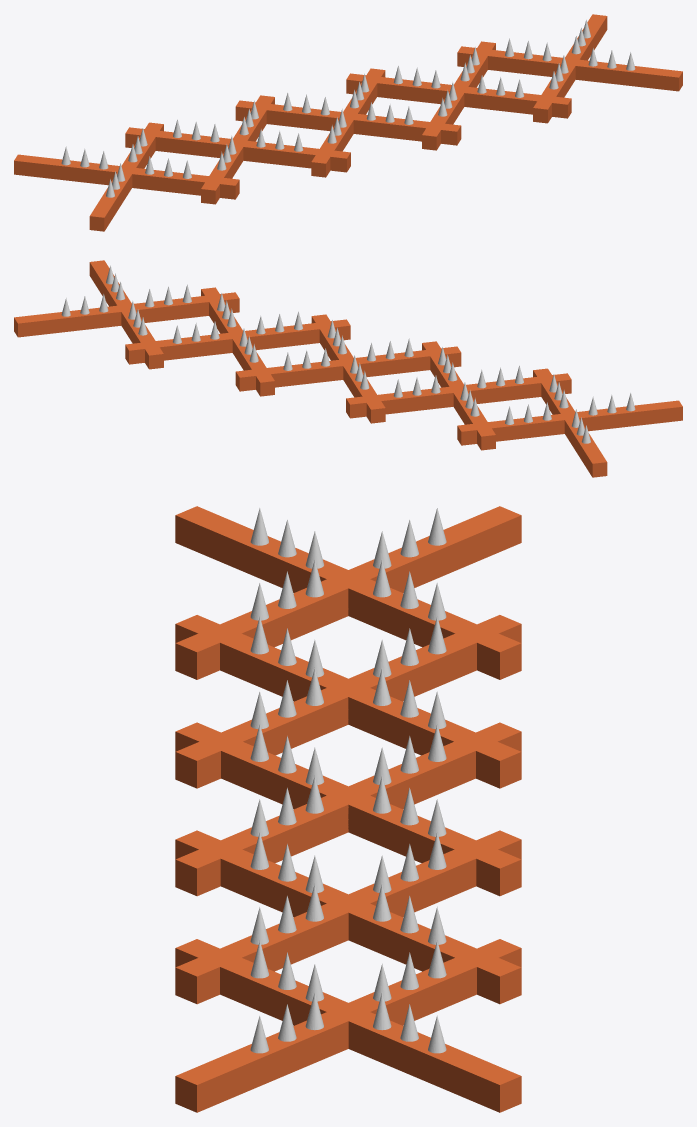
Rendered from Barbed.fbx.
3 renders of one model, top to bottom at view 1: azimuth 30°, elevation 25°; view 2: azimuth 150°, elevation 25°; view 3: azimuth 270°, elevation 25°, orthographic. The views are drawn at different scales.
Parts seen in each view (by area): view 1: 立方体, 锥体; view 2: 立方体, 锥体; view 3: 立方体, 锥体.
Part boxes in pixels (<box>): 立方体: <box>14,14,682,231</box>; 锥体: <box>61,19,635,197</box>; 立方体: <box>14,260,682,477</box>; 锥体: <box>61,265,635,443</box>; 立方体: <box>175,506,521,1112</box>; 锥体: <box>250,508,446,1053</box>.
Bounding box in the file's own units: 896 × 44.77 × 226.
